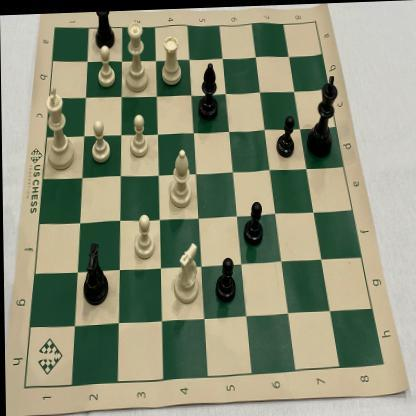black-bishop: (196, 58, 220, 123)
black-king: (305, 70, 343, 163)
black-knight: (79, 237, 110, 309)
black-pawn: (211, 251, 238, 304), (242, 194, 265, 248), (274, 112, 298, 160)
black-rook: (90, 9, 117, 49)
white-bishop: (167, 144, 193, 212)
white-king: (42, 81, 77, 171)
white-knight: (171, 235, 200, 307)
white-pawn: (131, 208, 157, 262), (88, 114, 113, 164), (128, 108, 152, 160), (95, 40, 117, 90)
white-queen: (121, 14, 152, 93)
white-rook: (159, 30, 185, 89)
